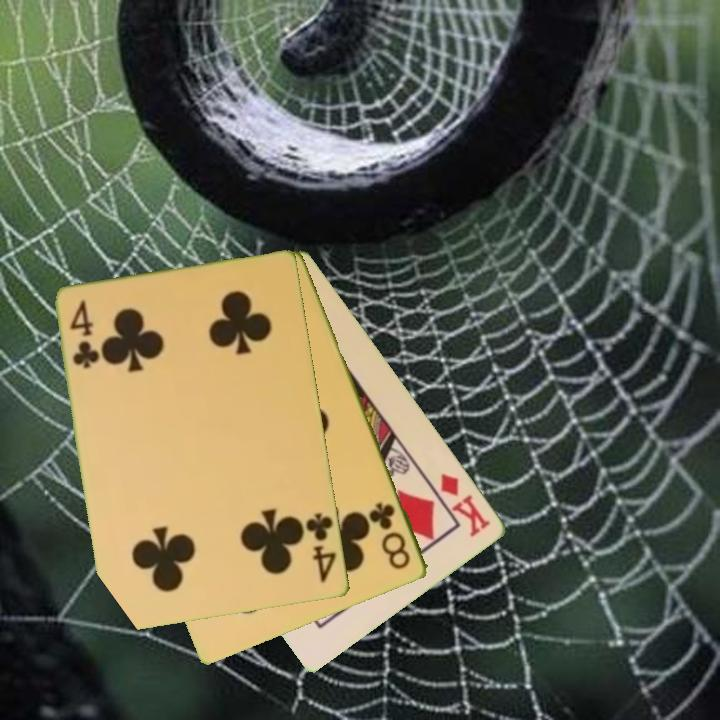4c: (302, 509, 340, 586), (66, 297, 101, 372)
8c: (366, 499, 414, 573)
Kd: (437, 469, 495, 540)
